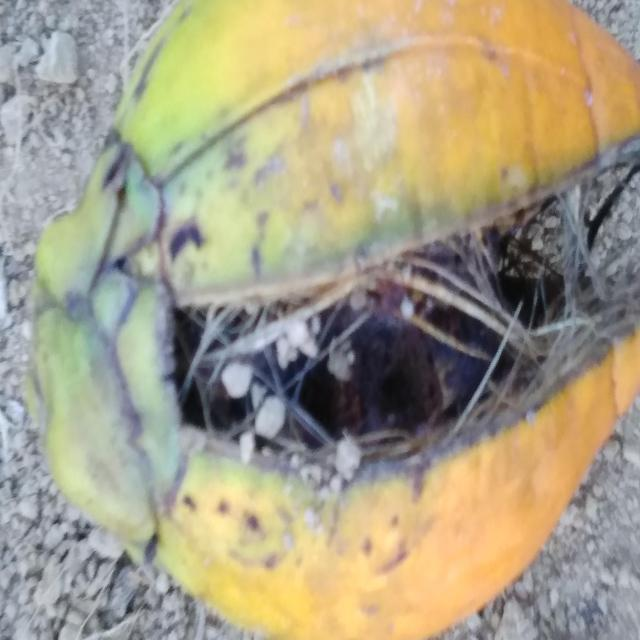damaged: (26, 0, 640, 640)
